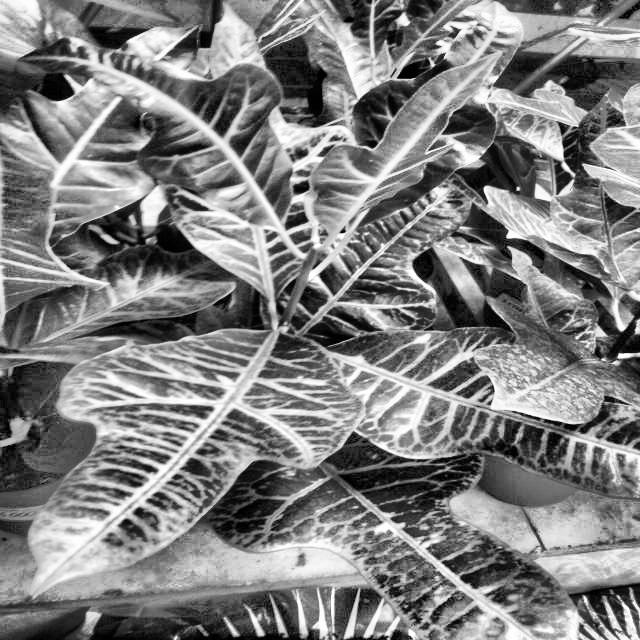plants: (54, 58, 571, 582)
